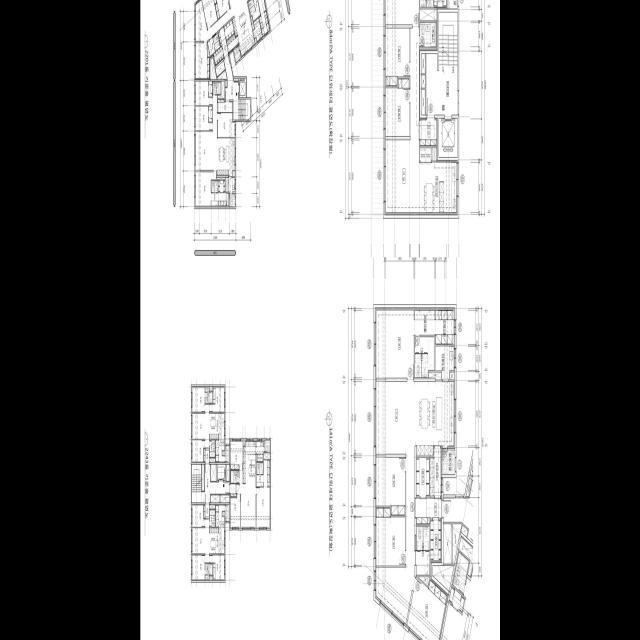background: (140, 0, 500, 640)
space_balconi: (233, 46, 241, 63), (229, 194, 235, 207)
space_bedroom: (375, 308, 414, 378), (406, 577, 448, 640), (375, 457, 405, 516), (375, 508, 405, 566), (384, 78, 409, 136), (384, 28, 409, 86), (384, 0, 419, 25), (195, 172, 216, 207), (256, 487, 269, 527), (195, 43, 209, 79), (202, 0, 217, 29), (195, 106, 212, 131), (218, 113, 235, 137), (195, 81, 212, 105), (230, 441, 243, 470), (209, 555, 224, 580), (209, 388, 224, 412), (192, 555, 205, 580), (230, 495, 240, 527), (192, 388, 204, 412), (215, 0, 229, 20), (192, 505, 204, 527), (192, 440, 204, 462), (208, 106, 212, 122), (208, 81, 212, 97)
space_dressroom: (435, 308, 455, 344), (414, 308, 434, 335), (259, 11, 270, 37), (263, 460, 269, 487), (218, 193, 228, 206), (434, 0, 447, 9), (218, 181, 225, 192)
space_elevator: (439, 121, 457, 157), (239, 78, 246, 97), (217, 465, 225, 480)
space_elevator_hall: (224, 56, 256, 120), (426, 54, 457, 117), (201, 465, 229, 503)
space_front: (416, 499, 442, 524), (420, 118, 437, 146), (430, 520, 441, 562), (218, 27, 228, 58), (213, 47, 224, 66), (224, 20, 234, 40), (217, 99, 232, 112), (203, 449, 209, 463), (230, 484, 236, 497), (203, 505, 209, 518)
space_kitchen: (414, 382, 455, 456), (419, 161, 457, 215), (232, 3, 255, 57), (209, 414, 224, 463), (209, 505, 224, 554), (217, 138, 235, 177), (243, 442, 255, 484)
space_living_room: (375, 381, 414, 626), (384, 28, 420, 215), (195, 0, 247, 41), (195, 95, 217, 170), (236, 471, 256, 527), (192, 519, 209, 563), (192, 405, 209, 448)
space_multipurpose_space: (435, 346, 455, 380)
space_other: (443, 481, 473, 544), (430, 448, 442, 497), (432, 566, 454, 591), (416, 458, 429, 497), (443, 524, 452, 564), (452, 524, 461, 564), (226, 34, 238, 53), (253, 18, 262, 42), (419, 9, 437, 20), (215, 61, 225, 77), (420, 148, 431, 162), (256, 442, 264, 461), (225, 178, 235, 193), (210, 58, 217, 79), (466, 478, 472, 496), (218, 81, 224, 99), (421, 90, 425, 115), (418, 577, 429, 586), (210, 465, 216, 481), (429, 372, 441, 380), (217, 70, 227, 79), (461, 525, 468, 537), (421, 54, 425, 73), (210, 495, 219, 503), (220, 495, 229, 503), (432, 148, 437, 161), (202, 464, 204, 491), (421, 75, 425, 88), (226, 465, 229, 481), (251, 16, 254, 30), (450, 372, 455, 380), (207, 45, 210, 57), (263, 454, 269, 459), (209, 458, 215, 463), (209, 505, 215, 509), (254, 38, 257, 44), (217, 178, 225, 180), (232, 171, 235, 176), (233, 78, 238, 81), (209, 576, 212, 580), (225, 81, 227, 87), (243, 441, 245, 446), (209, 388, 212, 391), (222, 512, 224, 516), (222, 451, 224, 455)
space_outdoor_room: (442, 450, 455, 474), (264, 440, 270, 452), (449, 0, 457, 9), (225, 446, 229, 463), (225, 505, 229, 522)
space_staircase: (439, 12, 457, 71), (192, 465, 201, 503), (238, 109, 250, 120)
space_toilet: (415, 337, 434, 378), (420, 22, 436, 47), (416, 551, 429, 575), (248, 0, 260, 21), (256, 463, 263, 486), (416, 527, 423, 550), (207, 38, 215, 56), (423, 527, 429, 550), (258, 0, 266, 15), (205, 564, 212, 579), (205, 388, 212, 403), (209, 440, 215, 457), (209, 510, 215, 527), (231, 471, 239, 483), (212, 82, 220, 94), (211, 193, 218, 206), (214, 40, 220, 51), (213, 33, 219, 44), (214, 181, 218, 193), (211, 181, 214, 193)
